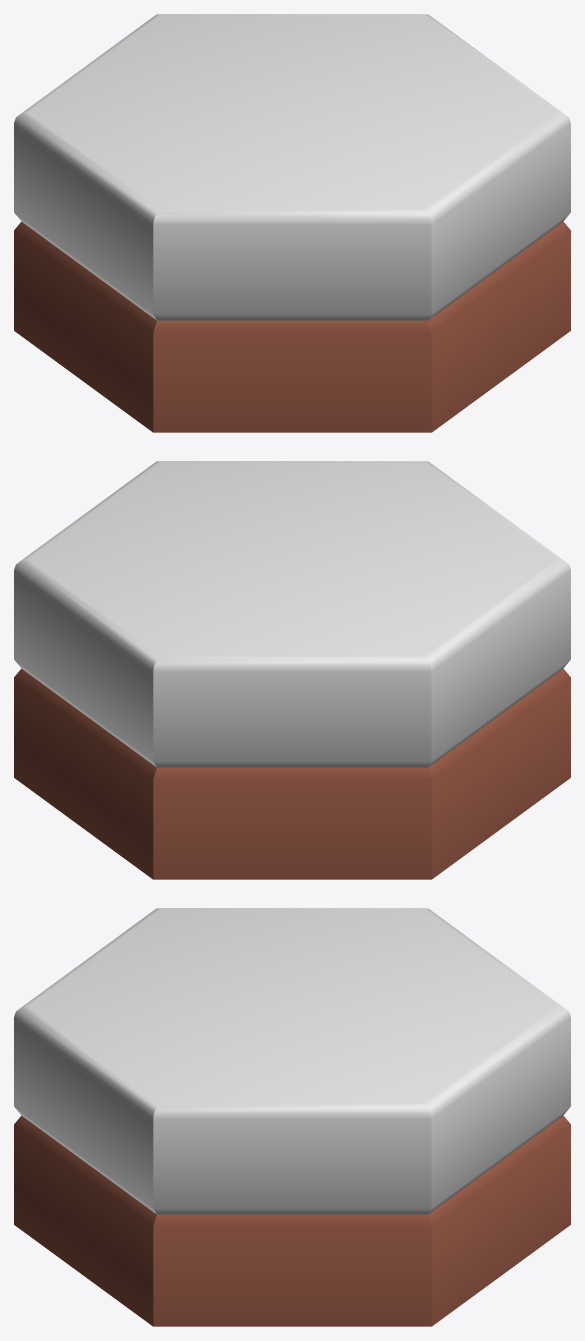
Rendered from hex_snow_detail.gltf.glb.
The picture shows the model from 3 angles, top to bottom: view 1: azimuth 30°, elevation 25°; view 2: azimuth 150°, elevation 25°; view 3: azimuth 270°, elevation 25°; orthographic projection.
Parts seen in each view (by area): view 1: hex_snow_detail; view 2: hex_snow_detail; view 3: hex_snow_detail.
Part boxes in pixels (x1,y1,x2,y2): hex_snow_detail: (14,14,570,432); hex_snow_detail: (14,461,570,879); hex_snow_detail: (14,908,570,1326).
Bounding box in the file's own units: 2 × 1 × 2.31.
